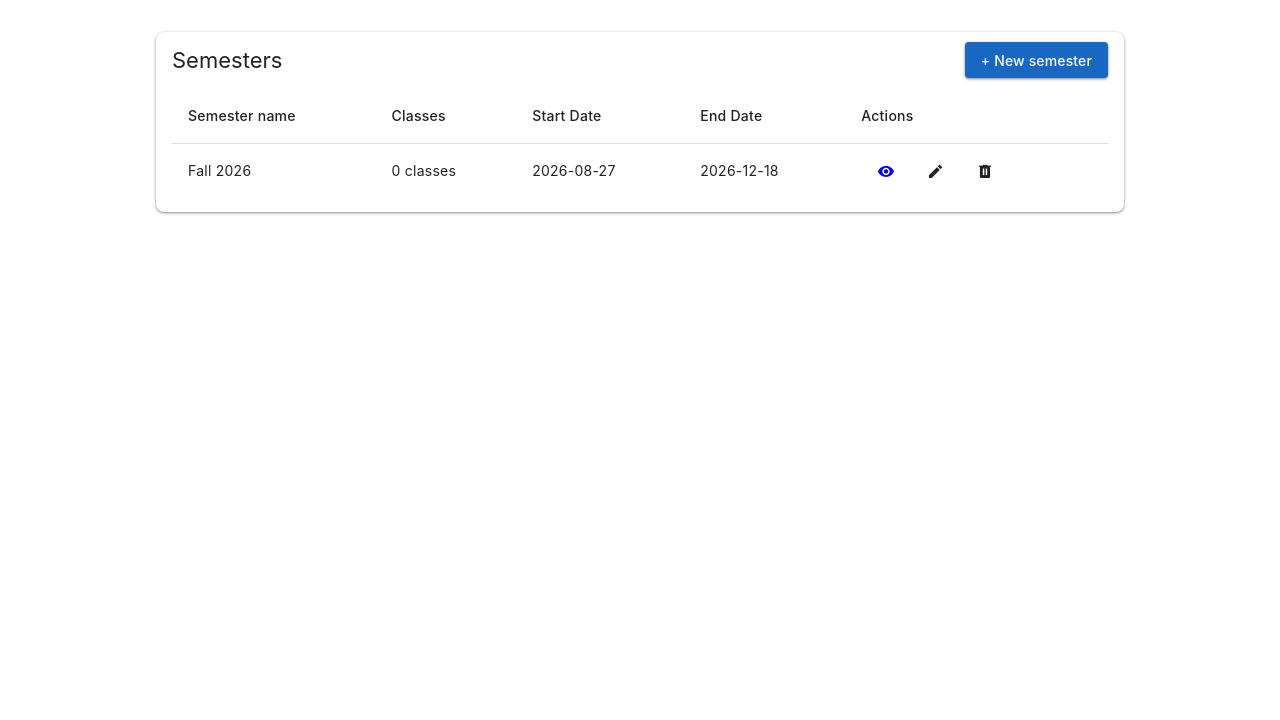
Feature 2 — Semester Management › US-2.8 — Edit a semester › Student selects to edit a semester from the card
expect the row "Fall 2026 0 classes 2026-08-27 2026-12-18" is shown: met, box 172,144 -> 1108,196
Click the button named "Edit semester": {"x": 935, "y": 172} 927,163 -> 944,180
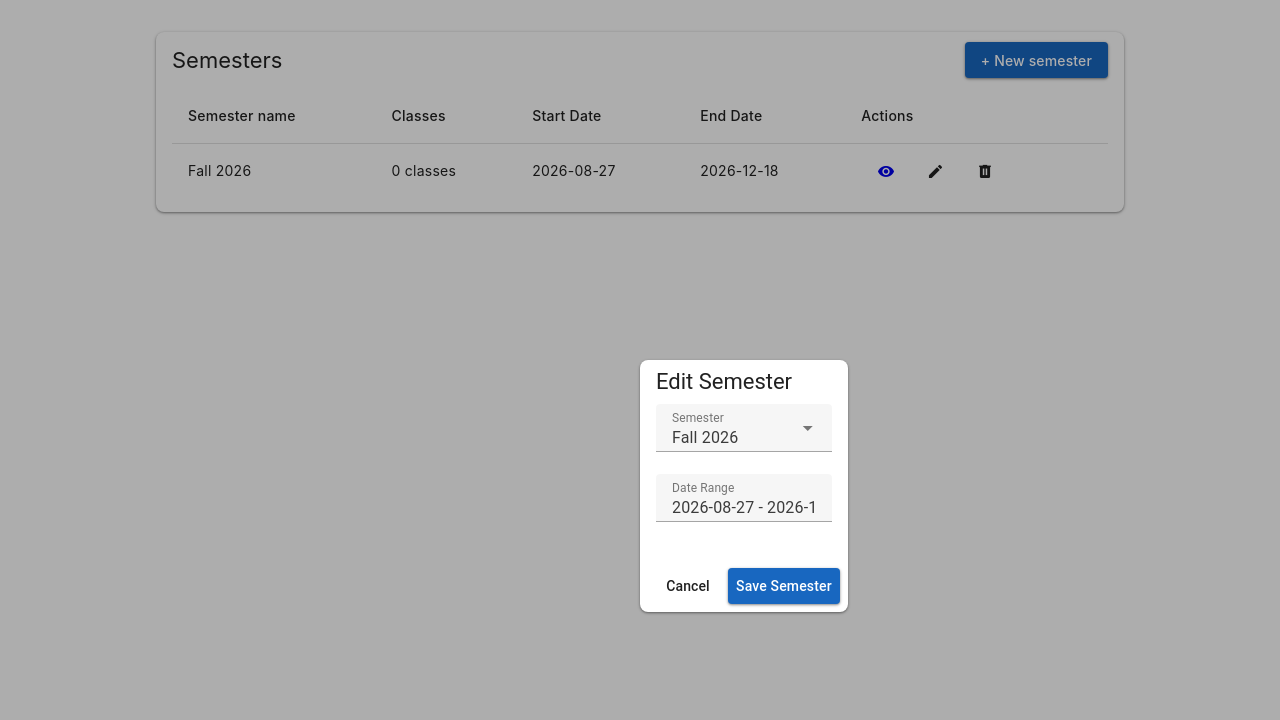
expect the element that starts with "Semesters" is shown: met, box 140,0 -> 1140,244
expect the text "Fall 2026" is shown: met, box 672,426 -> 738,450
